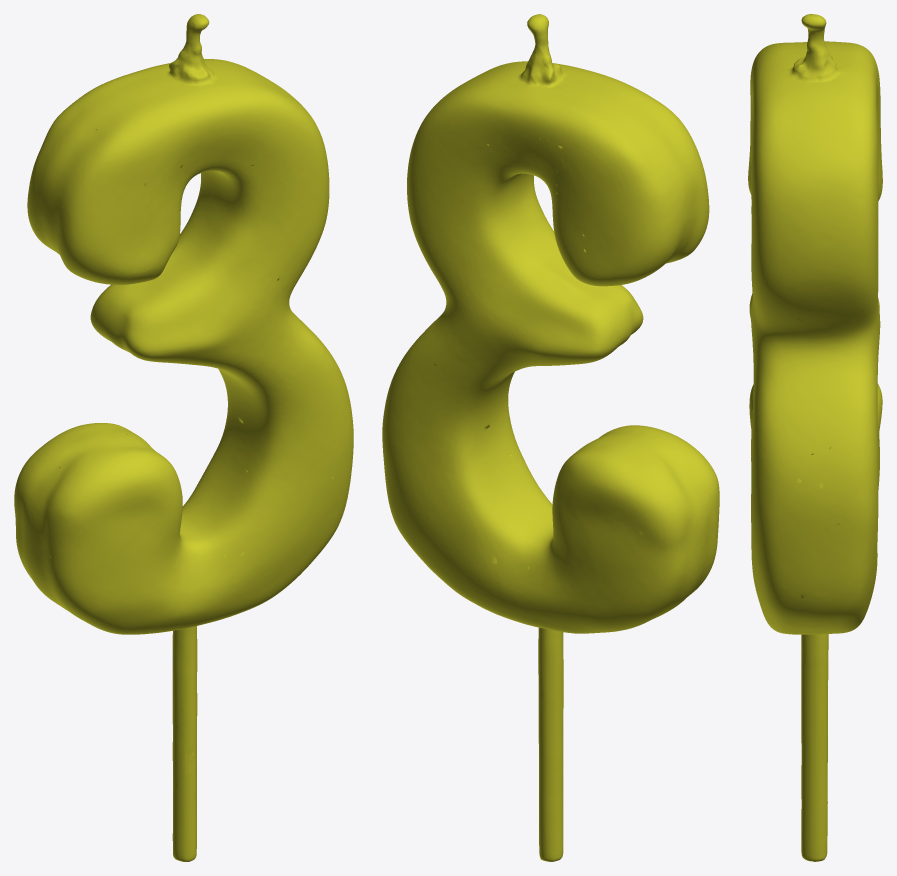
The model's file is number3.glb.
3 views of the same model, side by side, from view 1: azimuth 30°, elevation 25°; view 2: azimuth 150°, elevation 25°; view 3: azimuth 270°, elevation 25° (orthographic).
Visible parts, largest first — view 1: Mesh1.001; view 2: Mesh1.001; view 3: Mesh1.001.
Boxes of the visible parts, <box> form: Mesh1.001: <box>14,14,353,861</box>; Mesh1.001: <box>382,14,719,861</box>; Mesh1.001: <box>748,14,882,861</box>.
Size of the model in its own units: 0.3535 by 0.927 by 0.1332.
